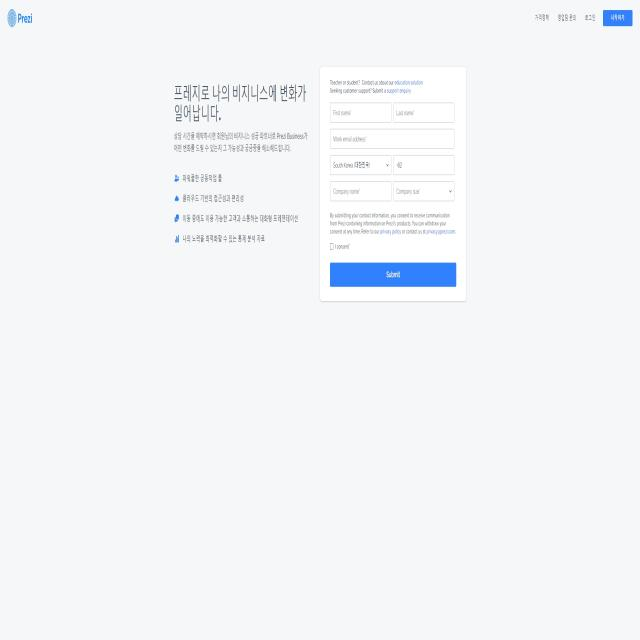menu-bar: (535, 9, 636, 25)
